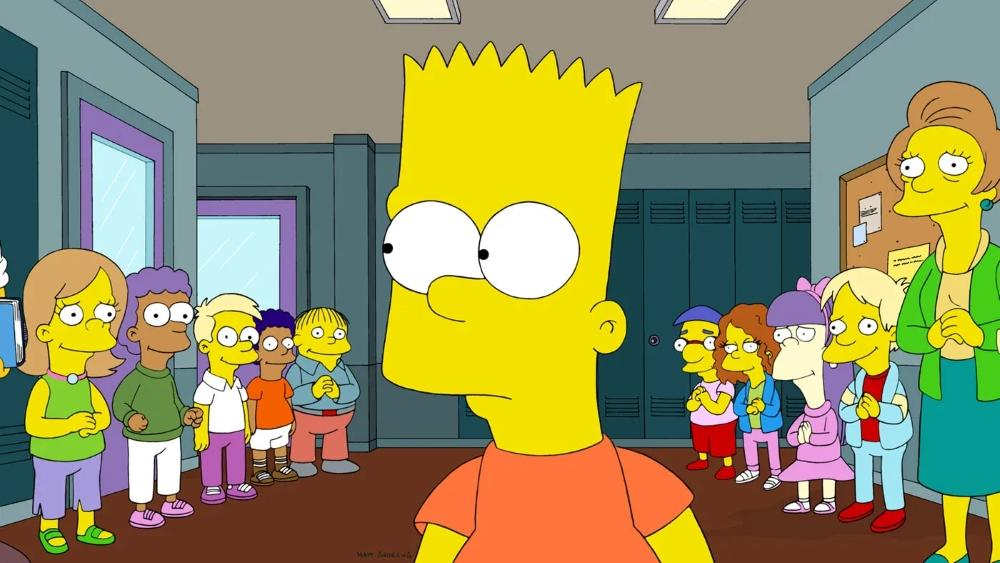Bart: (343, 27, 731, 563)
